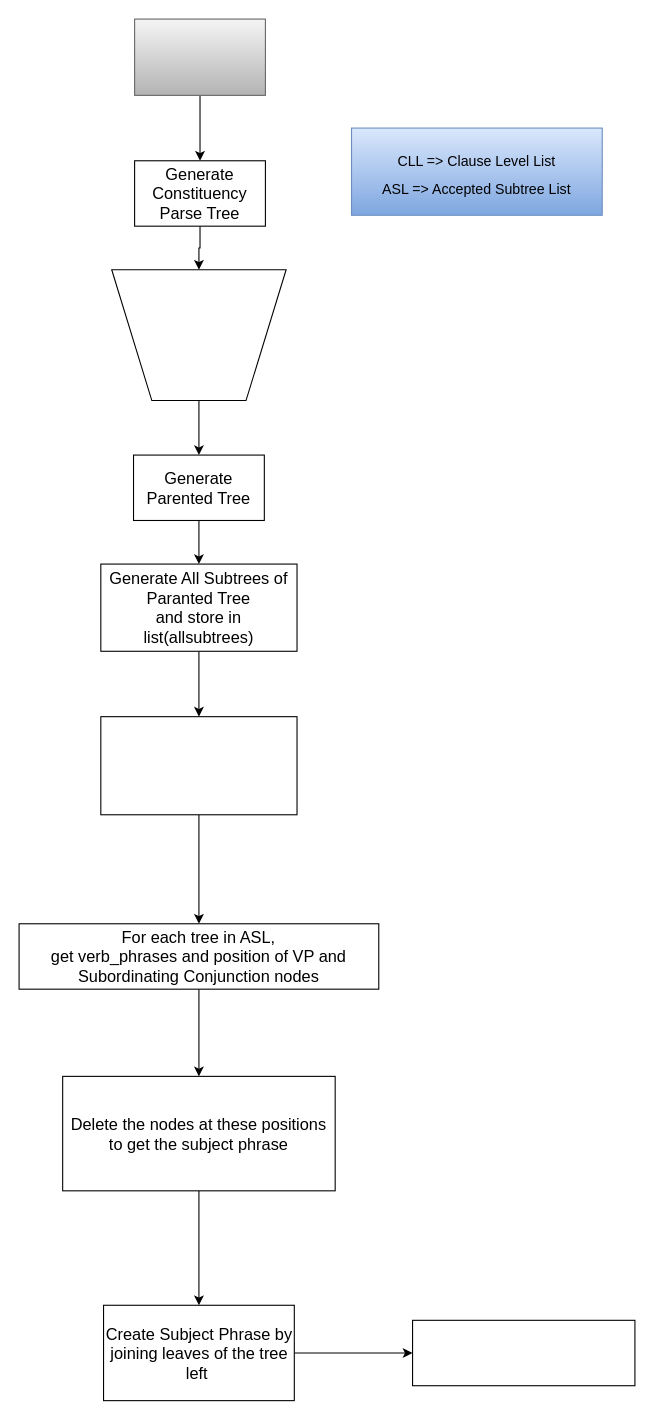
Image size: 654x1420. Some labels were removed from this diagram. The shapes that lost their labels are listed below. From the top down, each one's centre as x and y in pixels, then its label:
point (199, 56): Input Sentence
point (198, 335): Manually Check for Errors in Parse Tree
point (198, 765): Find Acceptable Subtrees and append them to ASL
point (523, 1352): Clause = Subject Phrase + VerbPhrase
